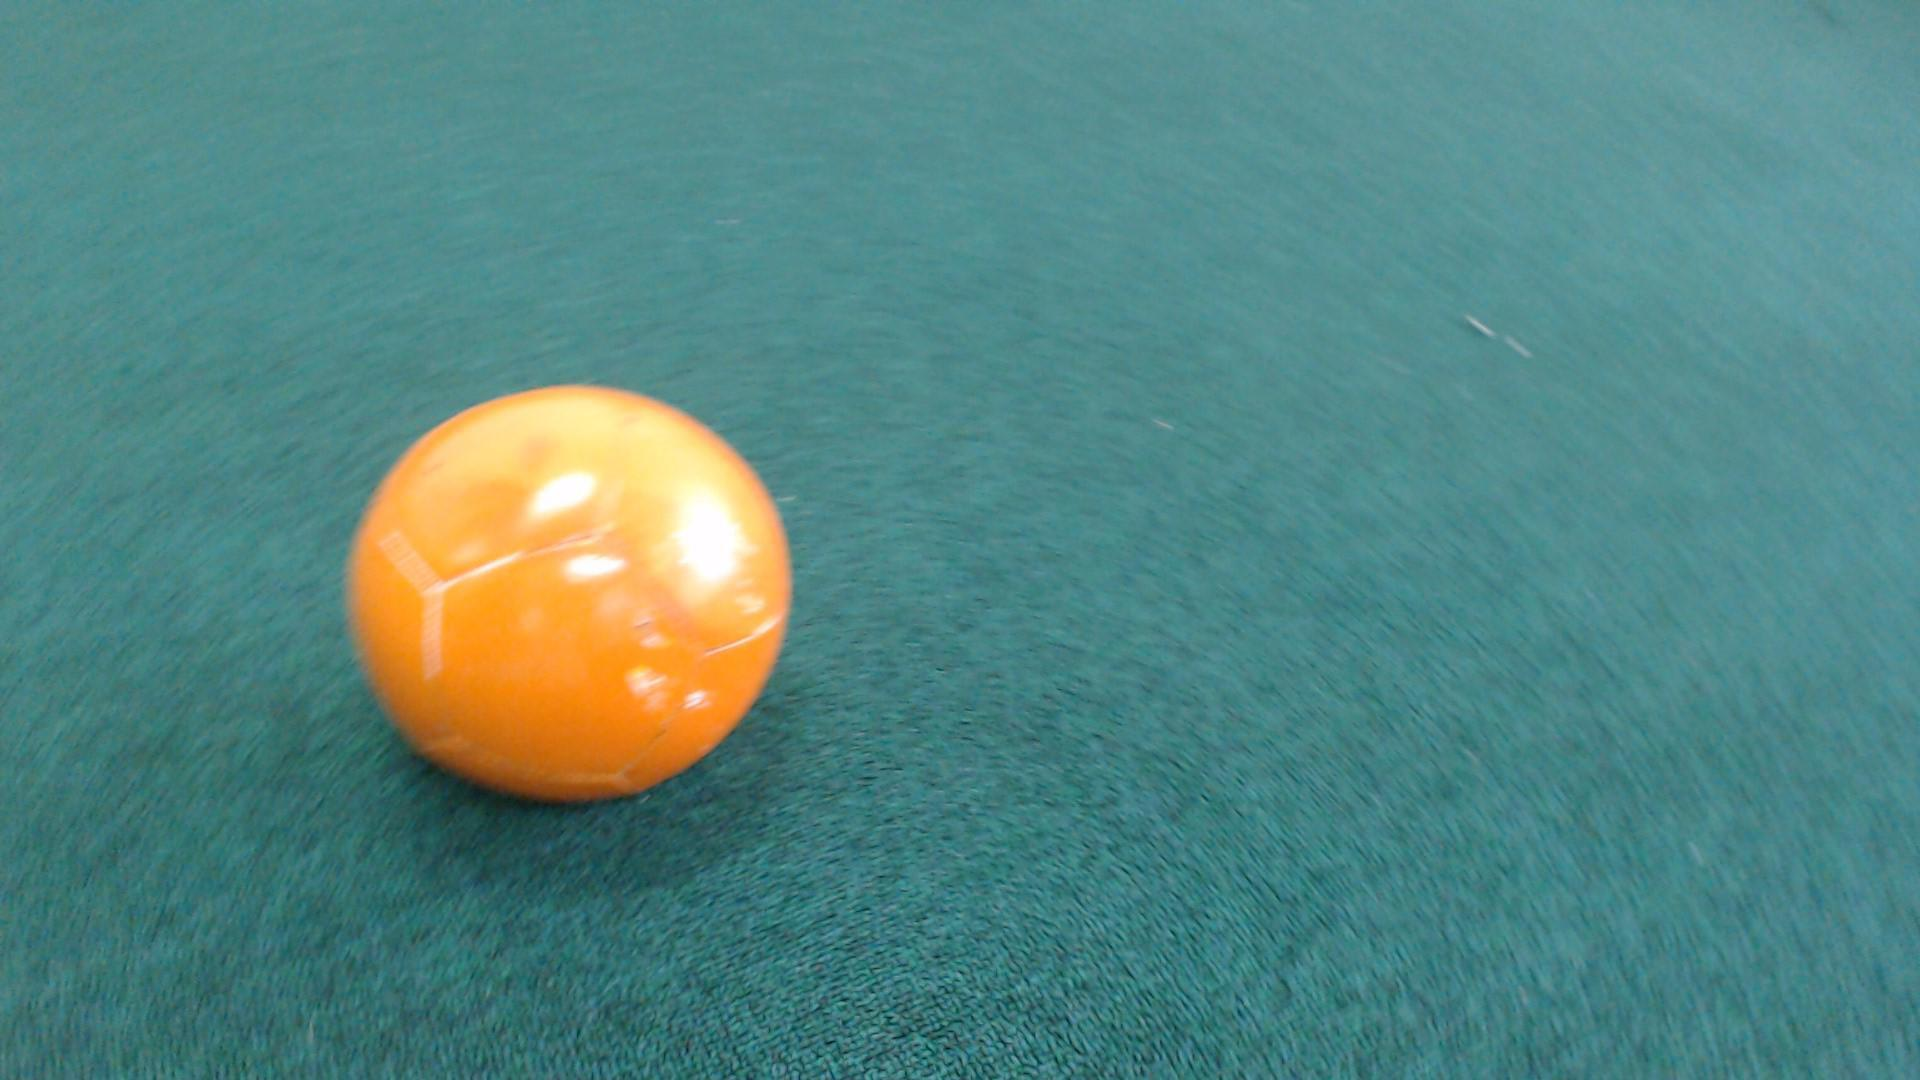bola: (322, 365, 839, 860)
